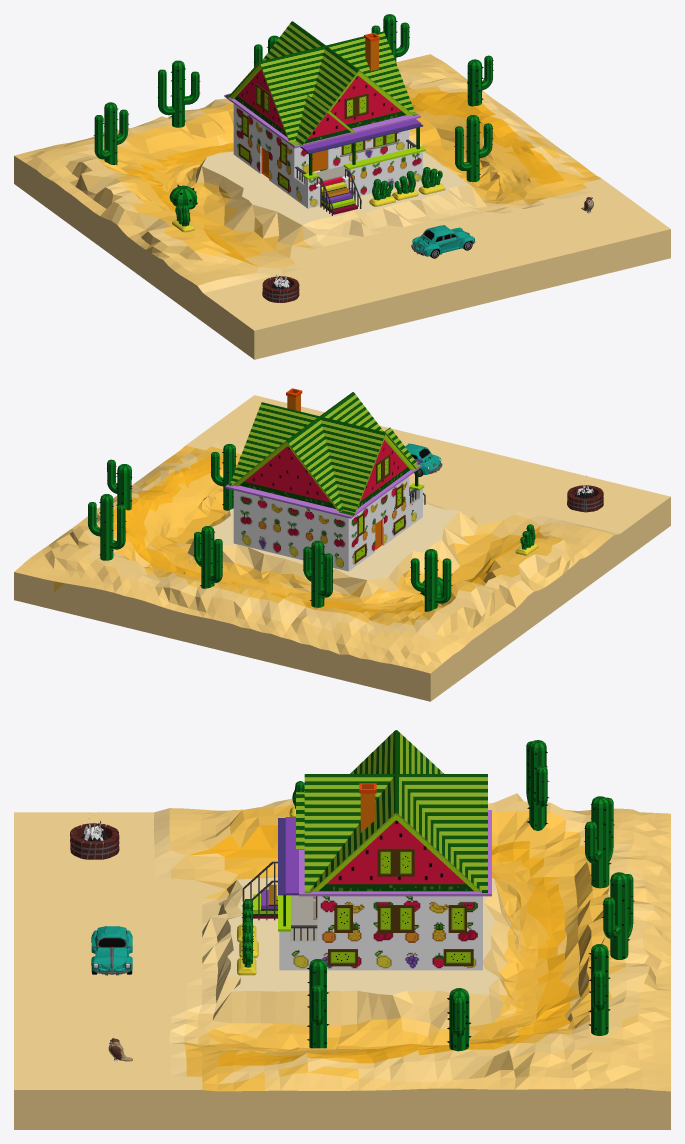
3 views of the same model, one above another, from view 1: azimuth 30°, elevation 25°; view 2: azimuth 150°, elevation 25°; view 3: azimuth 270°, elevation 25° (orthographic). The views are drawn at different scales.
Parts seen in each view (by area): view 1: Cube.001, Cube.1063, Cylinder.037, Cylinder.044, Cylinder.045, VEHICLES_VOLKSWAGEN, Cylinder.038, OBJRANDOM_CAMPFIRE, Cylinder.042, Cylinder.039, Cylinder.041, Sphere.023 (+1 smaller); view 2: Cube.001, Cube.1063, Cylinder.042, Cylinder.045, Cylinder.044, Cylinder.043, Cylinder.037, Cylinder.038, OBJRANDOM_CAMPFIRE, VEHICLES_VOLKSWAGEN; view 3: Cube.001, Cube.1063, Cylinder.043, Cylinder.044, VEHICLES_VOLKSWAGEN, Cylinder.045, Cylinder.042, OBJRANDOM_CAMPFIRE, Cylinder.037, Cylinder.038, Cylinder.041.
Boxes of the visible parts, <box> form: Cube.001: <box>14,54,670,359</box>; Cube.1063: <box>224,21,425,215</box>; Cylinder.037: <box>454,115,493,182</box>; Cylinder.044: <box>157,60,200,127</box>; Cylinder.045: <box>93,102,129,164</box>; VEHICLES_VOLKSWAGEN: <box>411,225,475,258</box>; Cylinder.038: <box>467,55,493,106</box>; OBJRANDOM_CAMPFIRE: <box>262,274,299,302</box>; Cylinder.042: <box>371,14,409,62</box>; Cylinder.039: <box>369,179,395,206</box>; Cylinder.041: <box>418,167,445,194</box>; Sphere.023: <box>169,184,197,209</box>; Cube.001: <box>14,395,670,701</box>; Cube.1063: <box>225,388,425,571</box>; Cylinder.042: <box>88,494,126,560</box>; Cylinder.045: <box>410,549,452,611</box>; Cylinder.044: <box>303,540,333,607</box>; Cylinder.043: <box>193,526,222,588</box>; Cylinder.037: <box>211,444,240,510</box>; Cylinder.038: <box>107,459,131,510</box>; OBJRANDOM_CAMPFIRE: <box>567,484,603,512</box>; VEHICLES_VOLKSWAGEN: <box>405,443,442,476</box>; Cube.001: <box>14,793,670,1129</box>; Cube.1063: <box>242,730,491,970</box>; Cylinder.043: <box>602,872,634,959</box>; Cylinder.044: <box>584,796,614,888</box>; VEHICLES_VOLKSWAGEN: <box>91,926,132,975</box>; Cylinder.045: <box>526,740,549,830</box>; Cylinder.042: <box>588,944,610,1035</box>; OBJRANDOM_CAMPFIRE: <box>70,821,119,859</box>; Cylinder.037: <box>307,959,329,1048</box>; Cylinder.038: <box>447,988,471,1051</box>; Cylinder.041: <box>237,932,256,975</box>.
Bounding box in the file's own units: 4002 × 1779 × 4001.
Materials: 32 (4 with a texture image).
